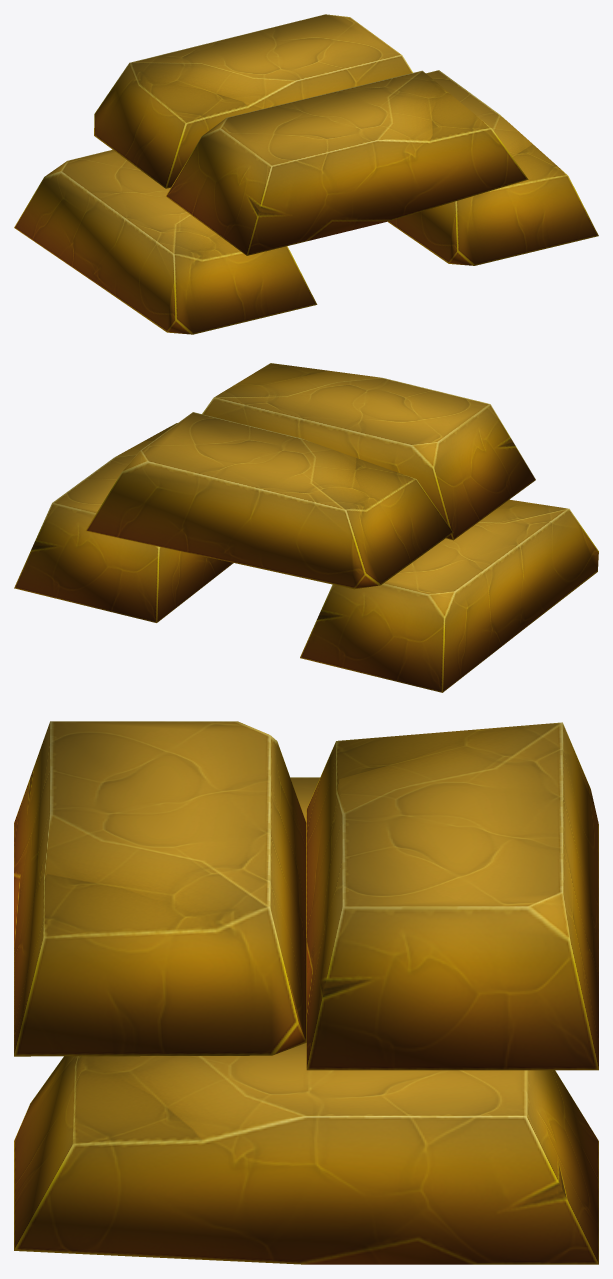
Rendered from Gold-10.fbx.
3 views of the same model, one above another, from view 1: azimuth 30°, elevation 25°; view 2: azimuth 150°, elevation 25°; view 3: azimuth 270°, elevation 25° (orthographic). The views are drawn at different scales.
Parts seen in each view (by area): view 1: Gold-10; view 2: Gold-10; view 3: Gold-10.
Part boxes in pixels (x1,y1,x2,y2): Gold-10: [14, 14, 598, 334]; Gold-10: [14, 363, 598, 692]; Gold-10: [14, 721, 598, 1264].
Size of the model in its own units: 0.225 by 0.075 by 0.15.
1 material, 1 textured.
